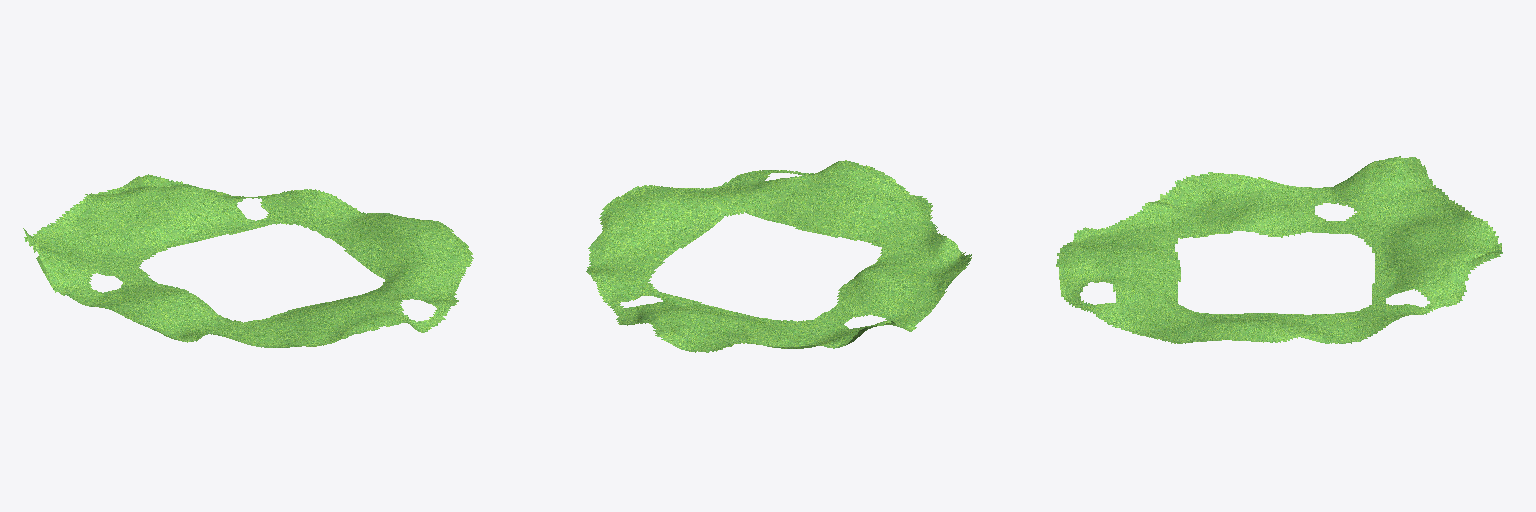
3 renders of one model, left to right at view 1: azimuth 30°, elevation 25°; view 2: azimuth 150°, elevation 25°; view 3: azimuth 270°, elevation 25°, orthographic.
Parts seen in each view (by area): view 1: Plane.002_Plane.008; view 2: Plane.002_Plane.008; view 3: Plane.002_Plane.008.
Boxes of the visible parts, <box> form: Plane.002_Plane.008: <box>23,174,473,347</box>; Plane.002_Plane.008: <box>586,160,971,352</box>; Plane.002_Plane.008: <box>1056,156,1502,343</box>.
Size of the model in its own units: 133 by 13.61 by 147.
Materials: 1 (1 with a texture image).